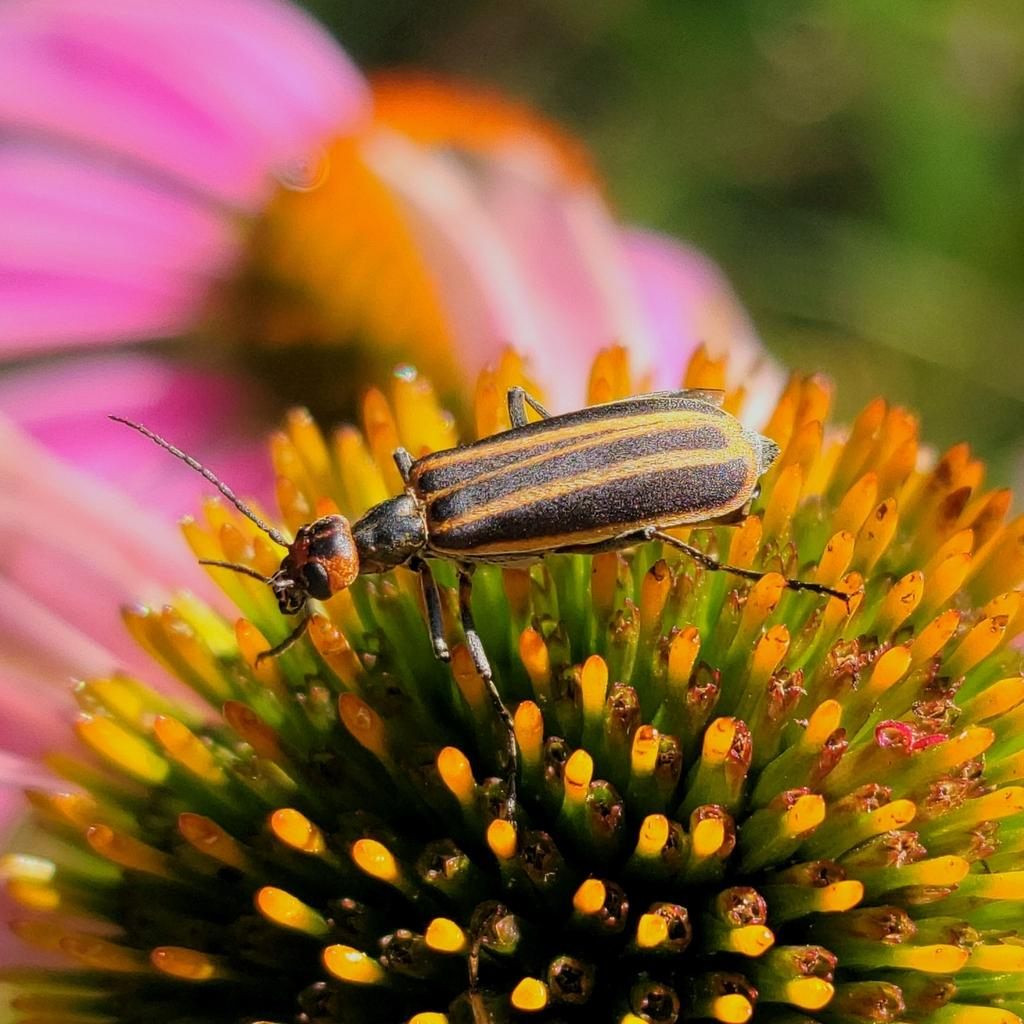blister_beetle: (23, 257, 976, 788)
